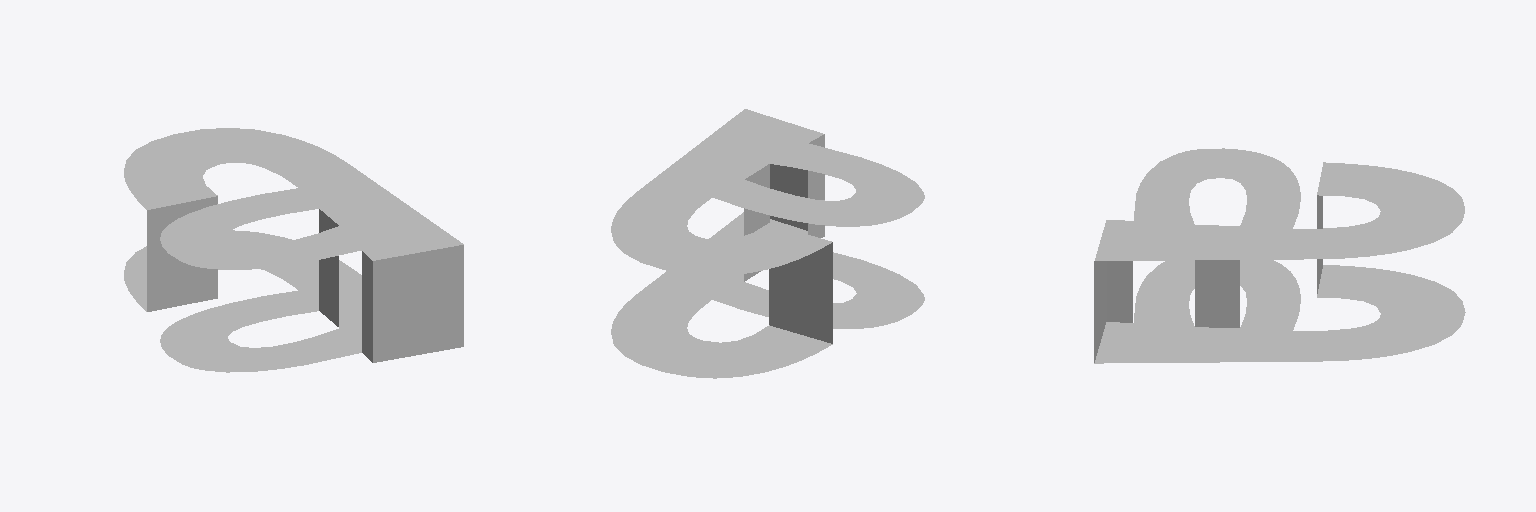
File: a2_chrome.obj
The picture shows the model from 3 angles: view 1: azimuth 30°, elevation 25°; view 2: azimuth 150°, elevation 25°; view 3: azimuth 270°, elevation 25°; orthographic projection.
Size of the model in its own units: 0.5918 by 0.25 by 0.8224.